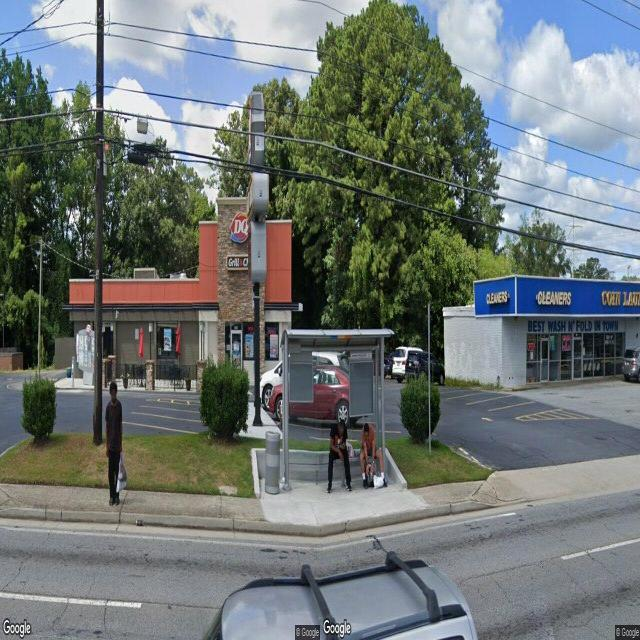seating: (328, 450, 379, 488)
shelter: (281, 328, 395, 493)
trash_can: (264, 428, 282, 495)
